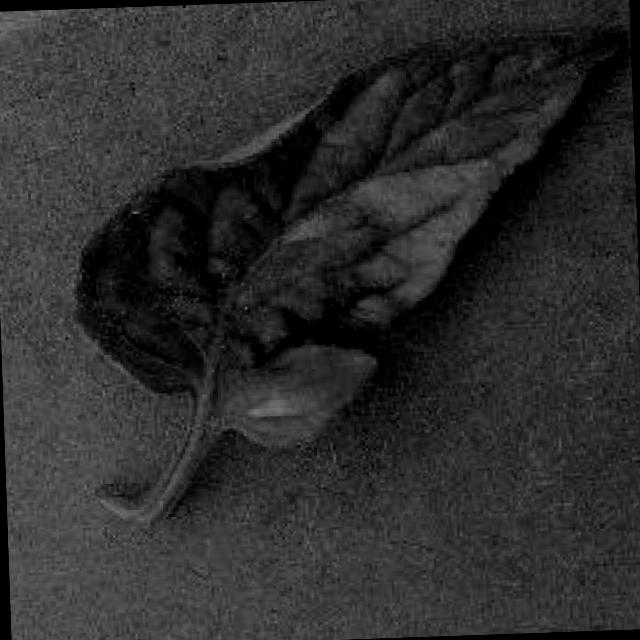leaf mold: (73, 30, 622, 532)
